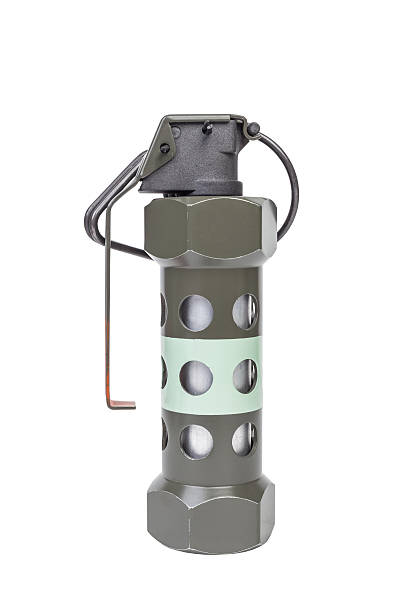e1: (84, 112, 280, 556)
